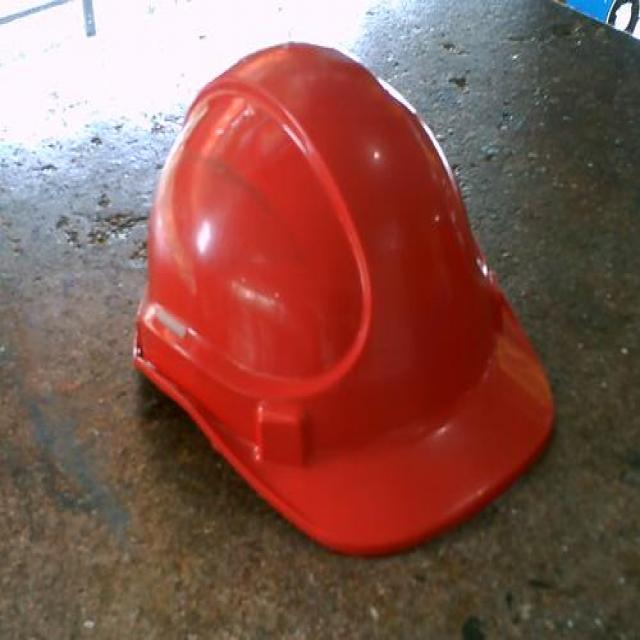Safety-Helmet: (104, 29, 581, 556)
